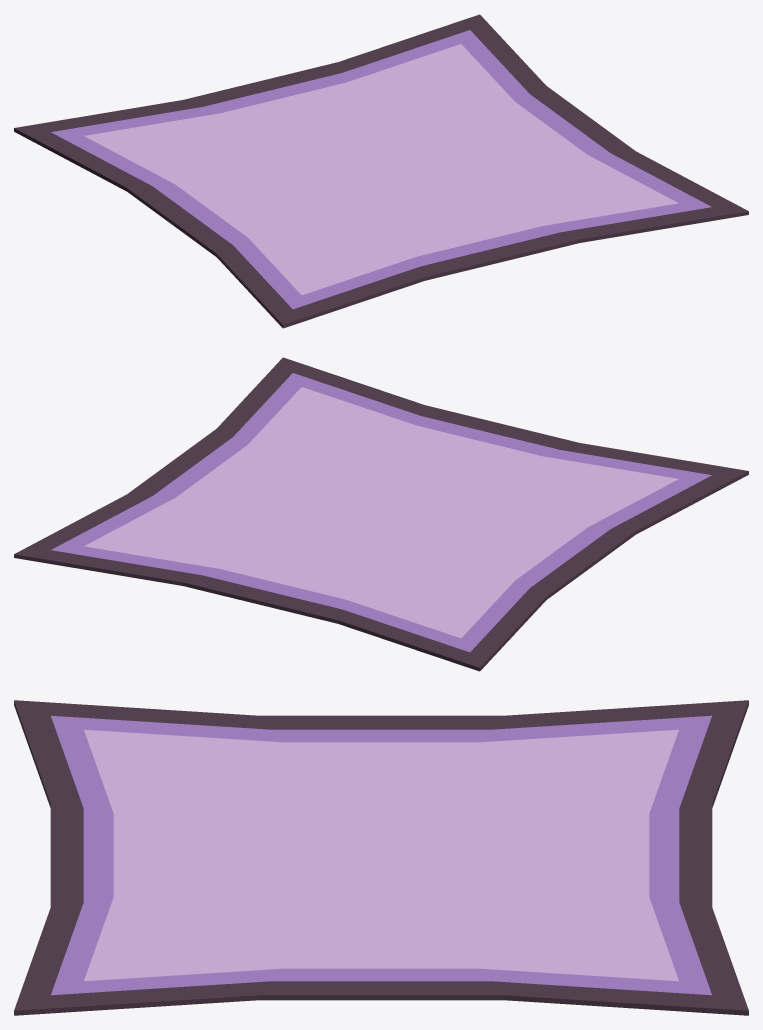
The model's file is Rug.fbx.
The picture shows the model from 3 angles, top to bottom: view 1: azimuth 30°, elevation 25°; view 2: azimuth 150°, elevation 25°; view 3: azimuth 270°, elevation 25°; orthographic projection. The views are drawn at different scales.
Parts seen in each view (by area): view 1: Rug; view 2: Rug; view 3: Rug.
Boxes of the visible parts, <box> form: Rug: <box>14,14,748,328</box>; Rug: <box>14,357,748,671</box>; Rug: <box>14,700,748,1015</box>.
Bounding box in the file's own units: 8000 × 60 × 8000.
